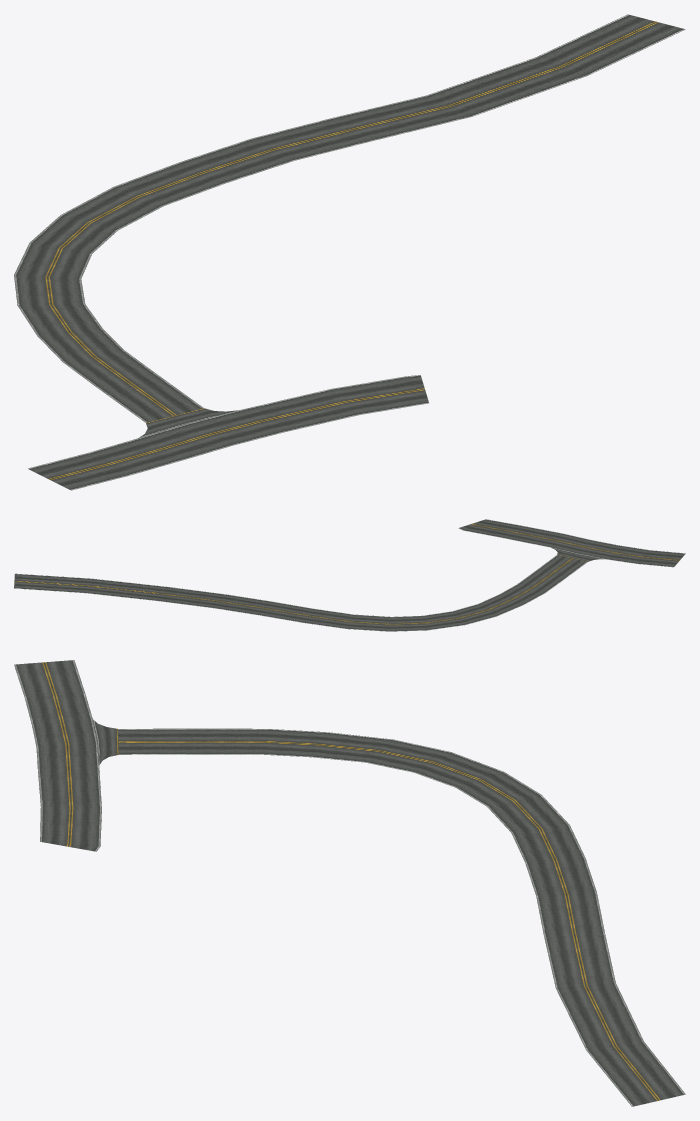
The model's file is cuntwroad69.obj.
3 views of the same model, one above another, from view 1: azimuth 30°, elevation 25°; view 2: azimuth 150°, elevation 25°; view 3: azimuth 270°, elevation 25° (orthographic). The views are drawn at different scales.
Visible parts, largest first — view 1: cuntwroad69; view 2: cuntwroad69; view 3: cuntwroad69.
Part boxes in pixels (x1,y1,x2,y2): cuntwroad69: (14,14,685,490); cuntwroad69: (14,519,685,631); cuntwroad69: (14,660,685,1106).
Size of the model in its own units: 197 by 4.37 by 131.
Materials: 2 (2 with a texture image).
